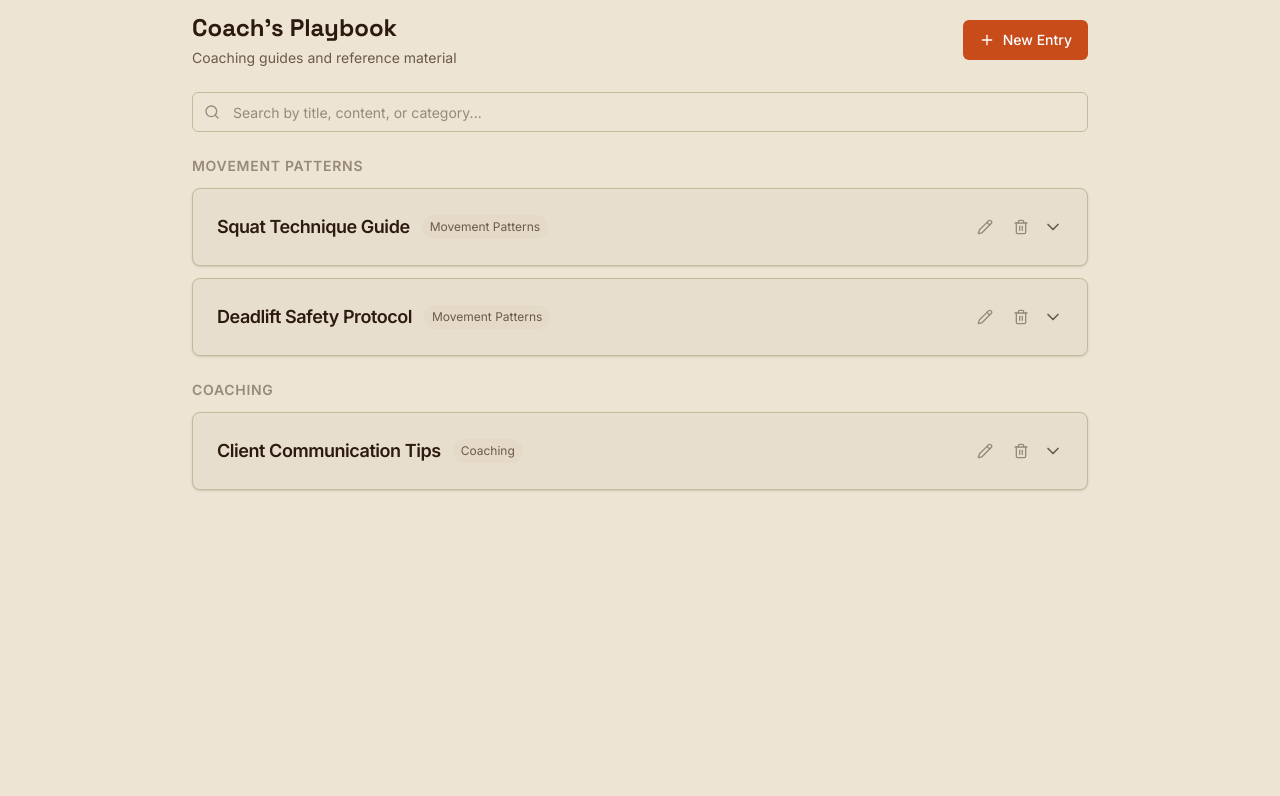
Test: PlaybookPage › shows create form when New Entry is clicked
Expected: the heading "Squat Technique Guide" is shown, [217,213,410,241]
What coordinates should you click on to do the following:
click the button "New Entry"
I would click on:
 (1025, 40)
Its box is [963,20,1088,60].
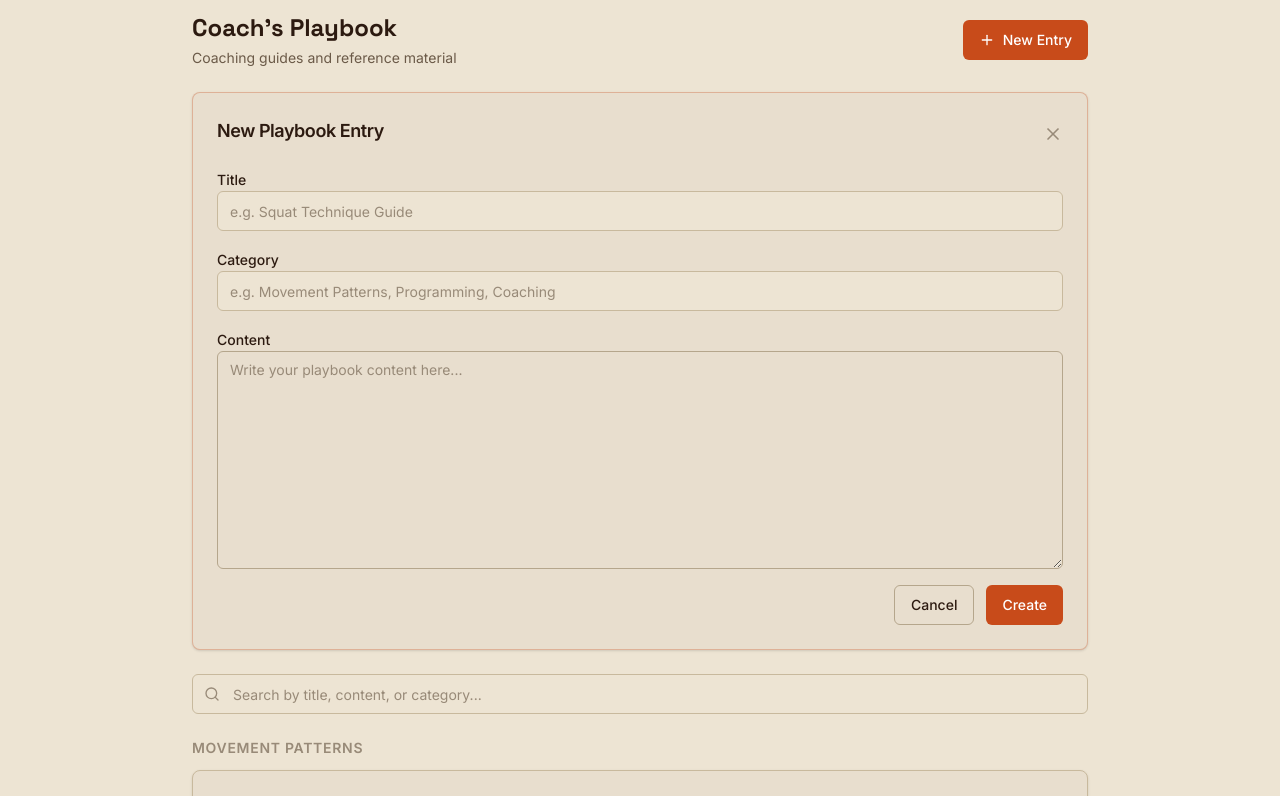
Expected: the heading "New Playbook Entry" is shown, [217,117,384,145]
Expected: the field labelled "Title" is shown, [217,191,1063,231]
Expected: the text box labelled "Content" is shown, [217,351,1063,569]
